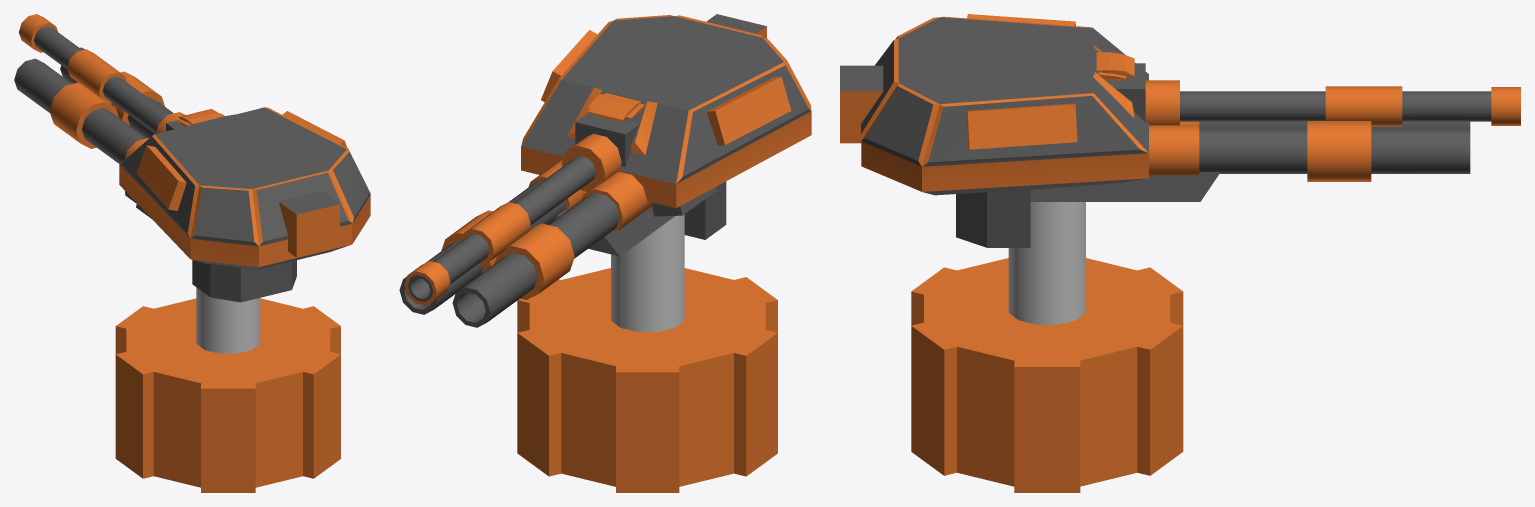
Rendered from Gun_3lu.fbx.
The picture shows the model from 3 angles, left to right: view 1: azimuth 30°, elevation 25°; view 2: azimuth 150°, elevation 25°; view 3: azimuth 270°, elevation 25°; orthographic projection. The views are drawn at different scales.
Visible parts, largest first — view 1: PylonElement.010, Turret.010, Gun.014, Gun.015, Pylon.010, Gun.013; view 2: PylonElement.010, Turret.010, Gun.014, Gun.015, Pylon.010, Gun.013; view 3: Turret.010, PylonElement.010, Gun.013, Gun.015, Pylon.010, Gun.014.
Boxes of the visible parts, x1,y1,x2,y2 form: PylonElement.010: (115, 298, 340, 492); Turret.010: (119, 107, 370, 302); Gun.014: (14, 58, 146, 163); Gun.015: (19, 14, 169, 133); Pylon.010: (196, 287, 260, 353); Gun.013: (60, 47, 173, 138); PylonElement.010: (517, 268, 777, 492); Turret.010: (521, 14, 811, 256); Gun.014: (452, 192, 619, 327); Gun.015: (404, 155, 595, 305); Pylon.010: (611, 214, 684, 331); Gun.013: (399, 179, 566, 314); Turret.010: (840, 14, 1219, 247); PylonElement.010: (911, 258, 1183, 492); Gun.013: (1199, 121, 1470, 181); Gun.015: (1180, 86, 1520, 126); Pylon.010: (1008, 202, 1085, 324); Gun.014: (1199, 121, 1470, 128).
Bounding box in the file's own units: 1.16 × 1.74 × 2.87.
